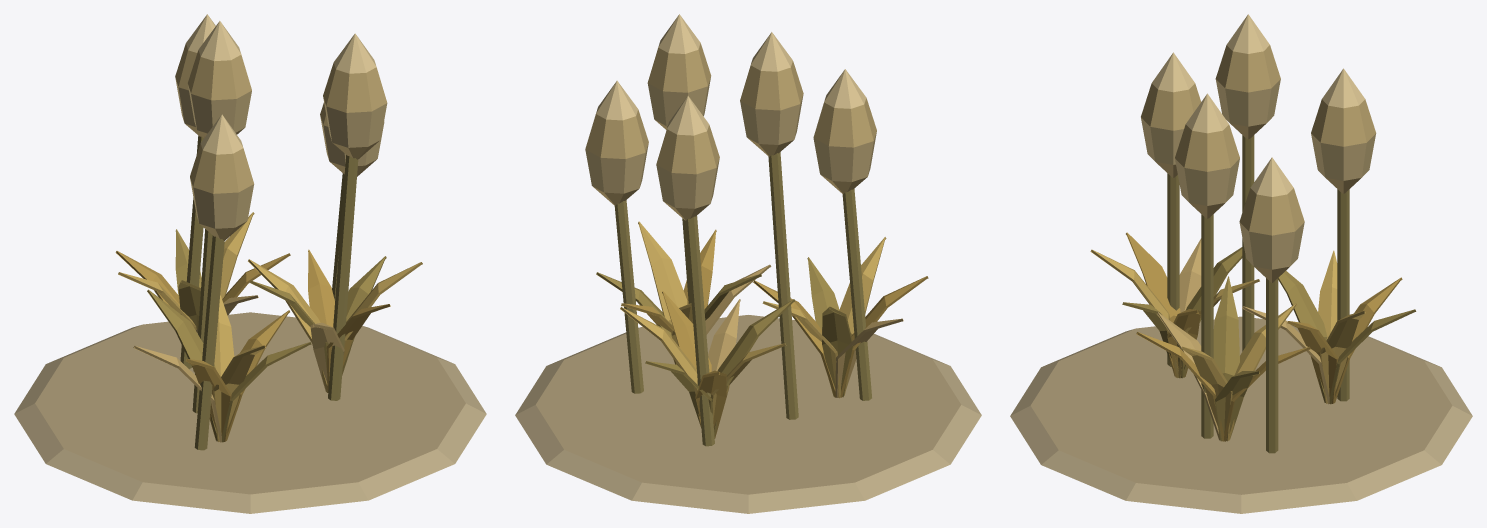
The model's file is AutumnSeedHeads.glb.
The picture shows the model from 3 angles, left to right: view 1: azimuth 30°, elevation 25°; view 2: azimuth 150°, elevation 25°; view 3: azimuth 270°, elevation 25°; orthographic projection. The views are drawn at different scales.
Visible parts, largest first — view 1: AutumnSeedHeads_Base, AutumnSeedHeads_Foliage; view 2: AutumnSeedHeads_Base, AutumnSeedHeads_Foliage; view 3: AutumnSeedHeads_Base, AutumnSeedHeads_Foliage.
Part boxes in pixels (x1,y1,x2,y2): AutumnSeedHeads_Base: (14,312,486,513); AutumnSeedHeads_Foliage: (115,14,422,450); AutumnSeedHeads_Base: (515,315,981,513); AutumnSeedHeads_Foliage: (585,14,928,446); AutumnSeedHeads_Base: (1010,316,1472,513); AutumnSeedHeads_Foliage: (1090,14,1416,453).
Size of the model in its own units: 0.68 by 0.645 by 0.68.
